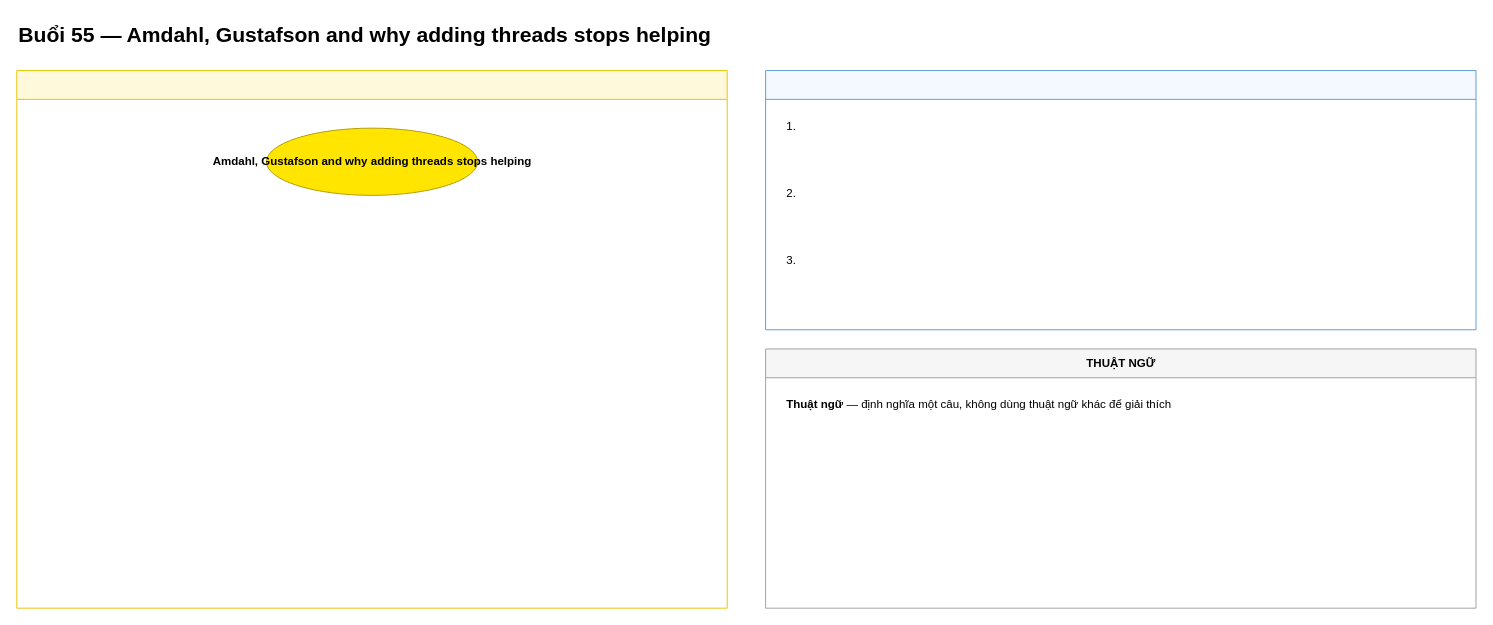
Some shapes in this 1493 by 625 pixel diagram are drawn without their labels. Here are the shapes that lost their labels. From the top down, the box of each, then its label:
(765, 70, 1476, 330): KEY TAKEAWAY — ba điều phải nhớ
(16, 70, 727, 608): MINDMAP
